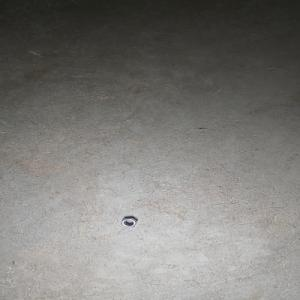Nut: (120, 218, 137, 228)
